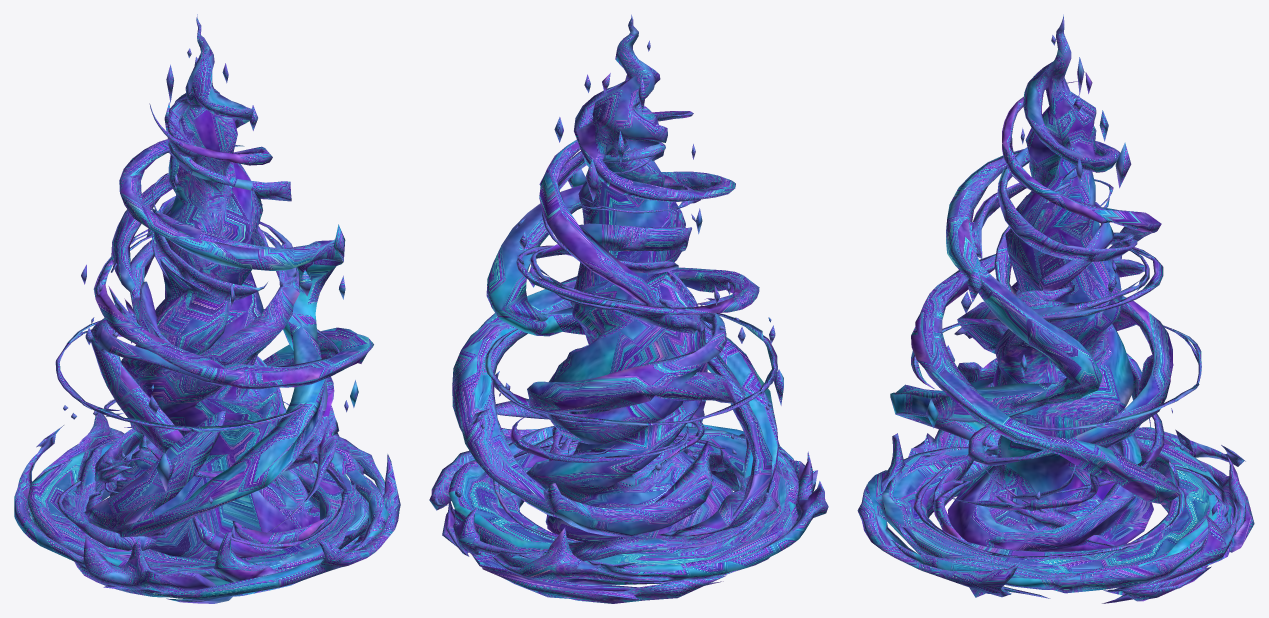
Rendered from pine.glb.
3 renders of one model, left to right at view 1: azimuth 30°, elevation 25°; view 2: azimuth 150°, elevation 25°; view 3: azimuth 270°, elevation 25°, orthographic.
Bounding box in the file's own units: 0.6328 × 0.9521 × 0.6484.
1 material, 1 textured.
